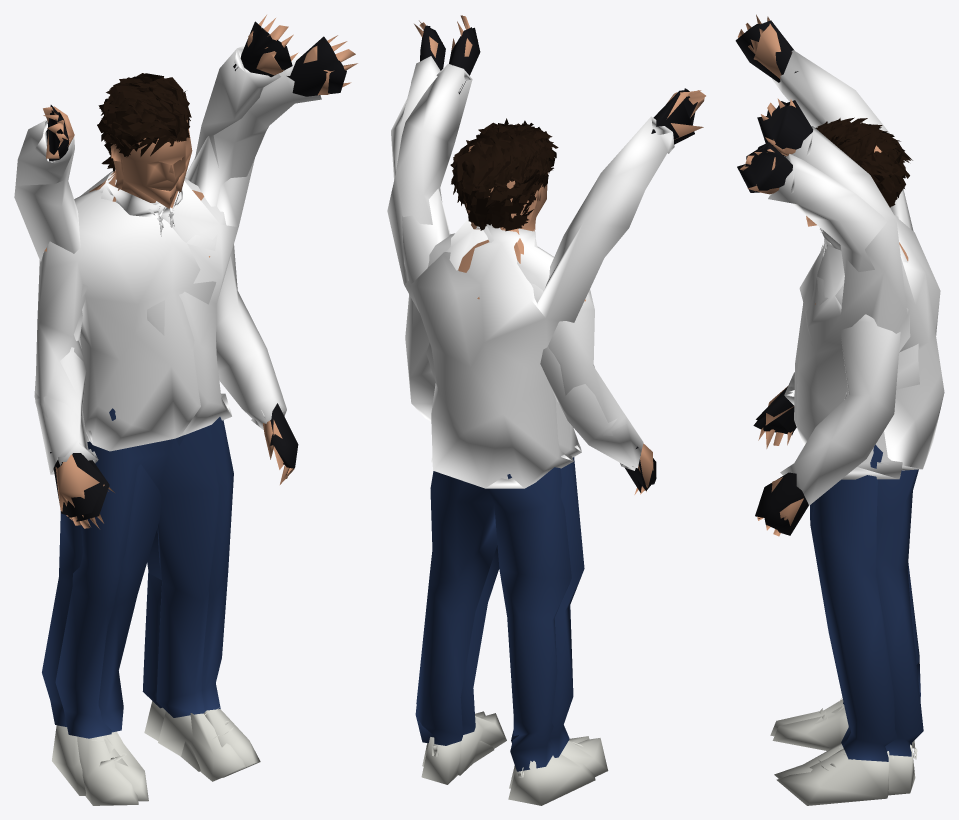
Rendered from fans.glb.
3 renders of one model, left to right at view 1: azimuth 30°, elevation 25°; view 2: azimuth 150°, elevation 25°; view 3: azimuth 270°, elevation 25°, orthographic. The views are drawn at different scales.
Visible parts, largest first — view 1: Fan_idle, Fan_pump, Fan_cheer; view 2: Fan_cheer, Fan_idle, Fan_pump; view 3: Fan_pump, Fan_cheer, Fan_idle.
Part boxes in pixels (box(x1,y1,x2,y2)): Fan_idle: box(35, 79, 298, 805); Fan_pump: box(34, 15, 298, 801); Fan_cheer: box(14, 35, 357, 795); Fan_cheer: box(391, 20, 705, 805); Fan_idle: box(405, 120, 641, 776); Fan_pump: box(387, 15, 656, 788); Fan_pump: box(756, 98, 919, 805); Fan_cheer: box(735, 14, 944, 795); Fan_idle: box(753, 118, 900, 778).
Size of the model in its own units: 0.8868 by 2.08 by 0.557.
